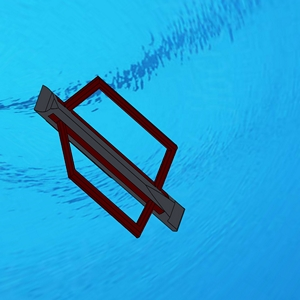submarine: (32, 74, 188, 233)
